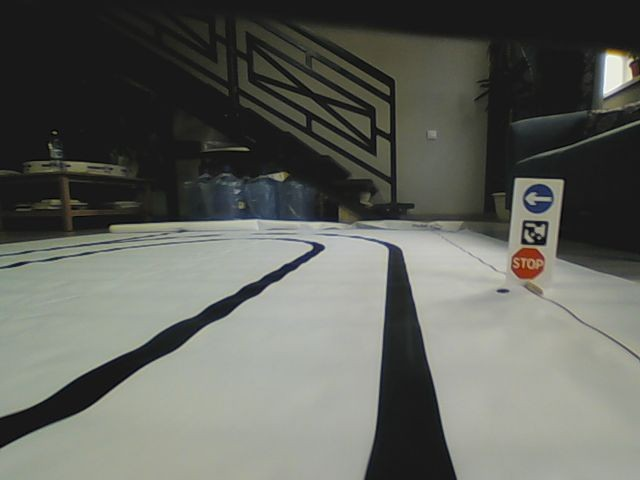Stop: (510, 247, 546, 279)
